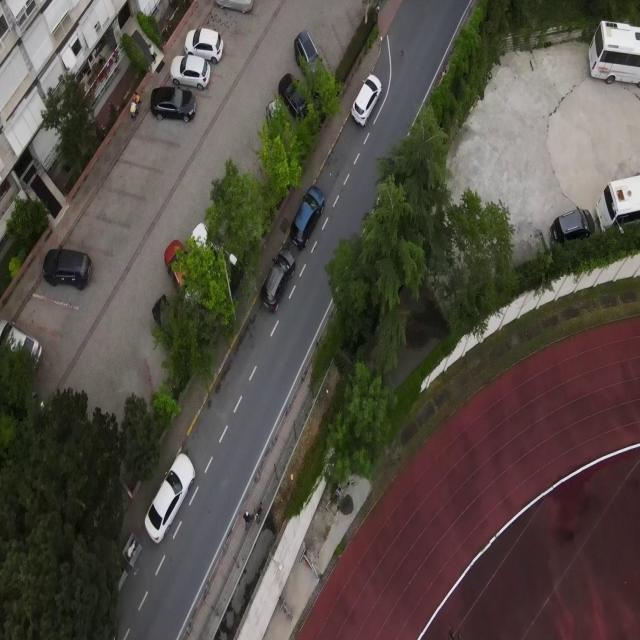p3rson: (243, 510, 252, 532), (148, 42, 156, 66), (133, 91, 143, 107)
